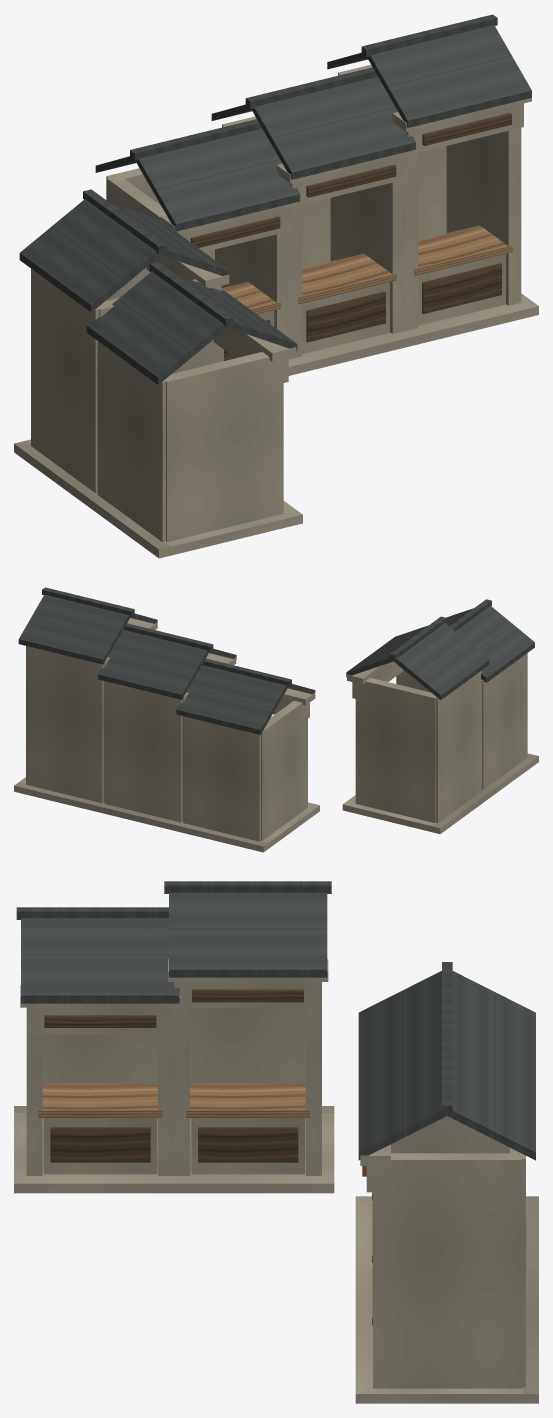
The model's file is minsk.glb.
3 renders of one model, top to bottom at view 1: azimuth 30°, elevation 25°; view 2: azimuth 150°, elevation 25°; view 3: azimuth 270°, elevation 25°, orthographic. The views are drawn at different scales.
Visible parts, largest first — view 1: minsk; view 2: minsk; view 3: minsk.
Part boxes in pixels (left/top/right/bottom): minsk: left=14, top=14, right=538, bottom=558; minsk: left=14, top=587, right=538, bottom=852; minsk: left=14, top=881, right=538, bottom=1403.
Size of the model in its own units: 5.2 by 2.5 by 4.01.
Materials: 1 (1 with a texture image).
